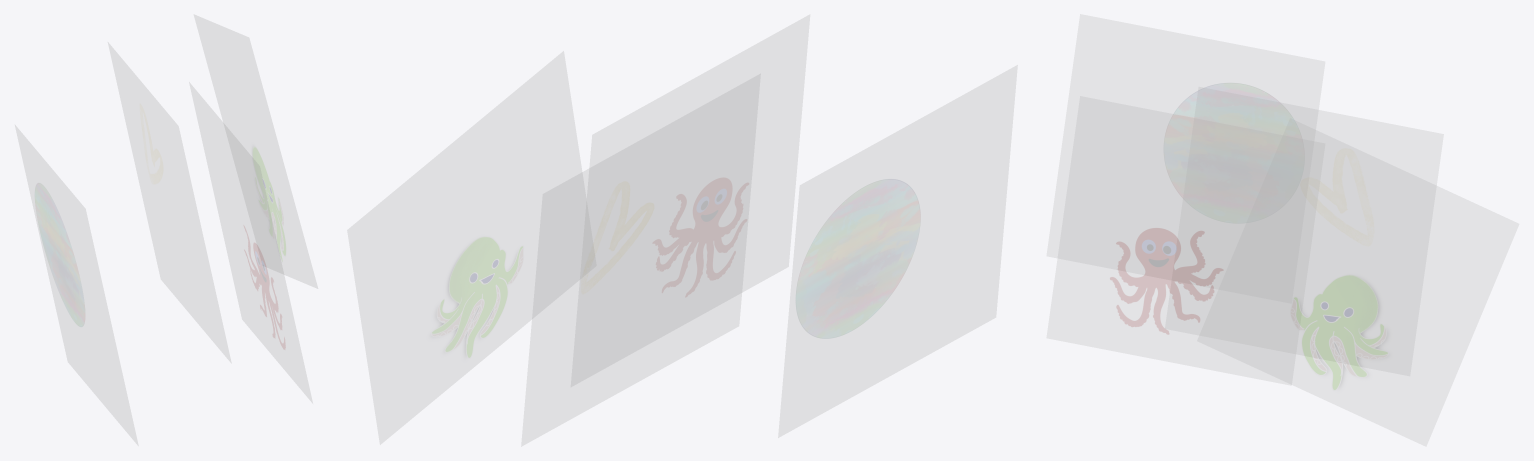
The model's file is dimension1.glb.
3 renders of one model, left to right at view 1: azimuth 30°, elevation 25°; view 2: azimuth 150°, elevation 25°; view 3: azimuth 270°, elevation 25°, orthographic. The views are drawn at different scales.
Visible parts, largest first — view 1: Fläche 3, Fläche, Fläche 2, Fläche 4; view 2: Fläche 2, Fläche 3, Fläche, Fläche 4; view 3: Fläche 4, Fläche, Fläche 2, Fläche 3.
Part boxes in pixels (x1,y1,x2,y2): Fläche 3: (15,125,138,445); Fläche: (189,82,312,402); Fläche 2: (108,42,231,362); Fläche 4: (194,15,317,288); Fläche 2: (521,74,760,446); Fläche 3: (778,65,1017,437); Fläche: (571,15,809,386); Fläche 4: (347,51,586,444); Fläche 4: (1197,118,1518,445); Fläche: (1047,96,1324,385); Fläche 2: (1165,87,1443,375); Fläche 3: (1047,14,1324,279).
Size of the model in its own units: 1.37 by 1.1 by 1.63.
4 materials, 4 textured.
